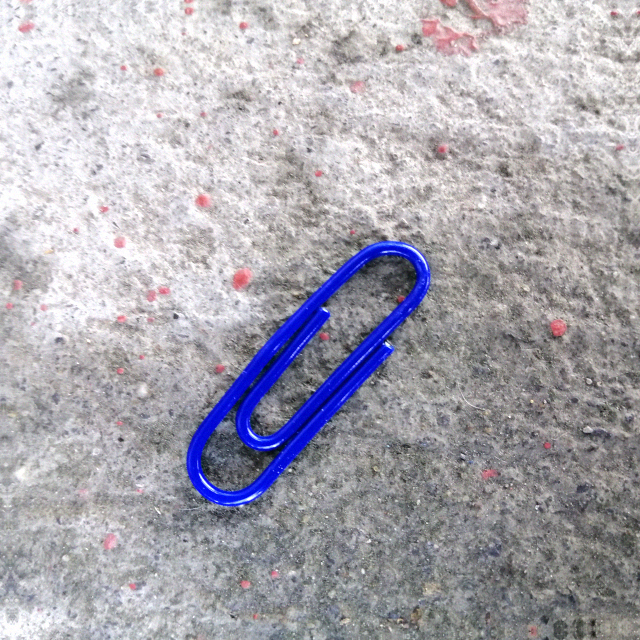pin: (182, 238, 434, 518)
